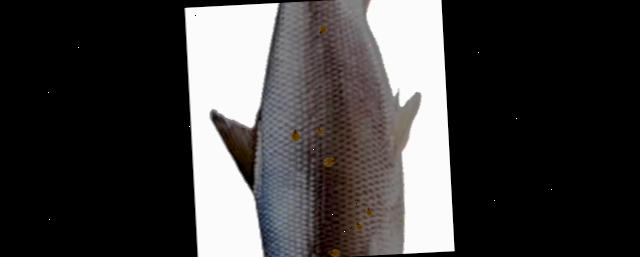Parasitic Disease: (212, 0, 419, 257)
